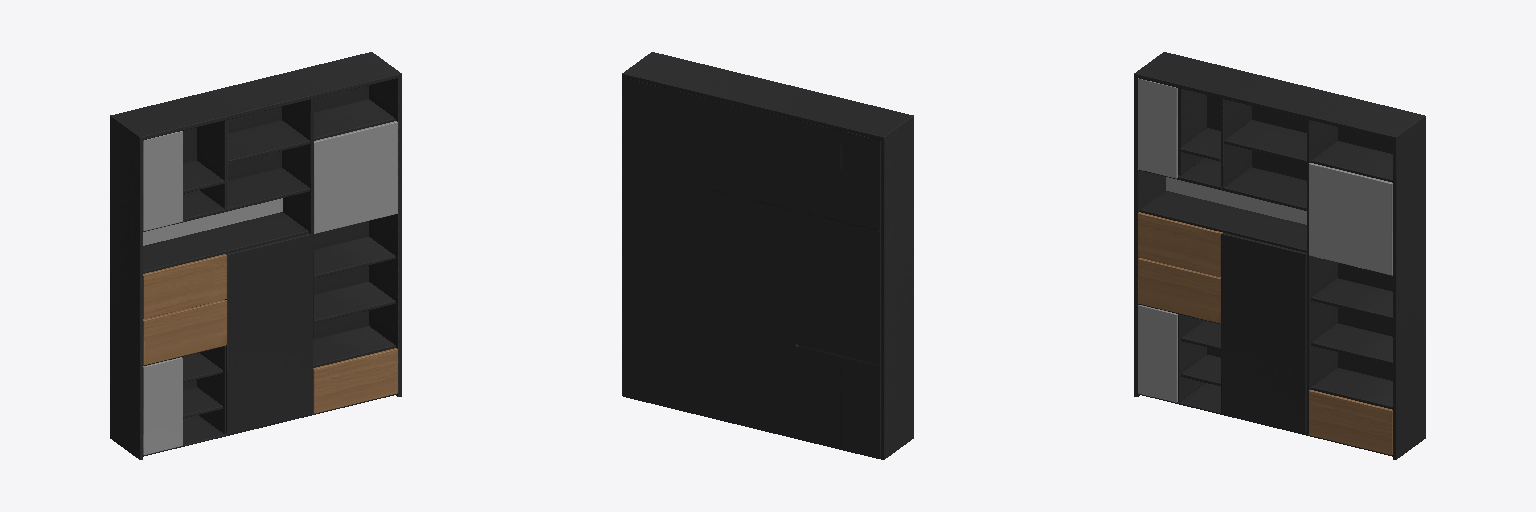
The picture shows the model from 3 angles: view 1: azimuth 30°, elevation 25°; view 2: azimuth 150°, elevation 25°; view 3: azimuth 330°, elevation 25°; orthographic projection.
Parts seen in each view (by area): view 1: solid_001, solid_002, solid_003; view 2: solid_001; view 3: solid_001, solid_002, solid_003.
Part boxes in pixels (bbox=[...]): solid_001: bbox=[110, 52, 401, 459]; solid_002: bbox=[143, 121, 397, 454]; solid_003: bbox=[143, 254, 397, 413]; solid_001: bbox=[622, 52, 913, 459]; solid_001: bbox=[1134, 52, 1425, 459]; solid_002: bbox=[1138, 78, 1392, 402]; solid_003: bbox=[1138, 212, 1392, 454].
Size of the model in its own units: 1.19 by 1.4 by 0.2363.
1 materials, 1 textured.